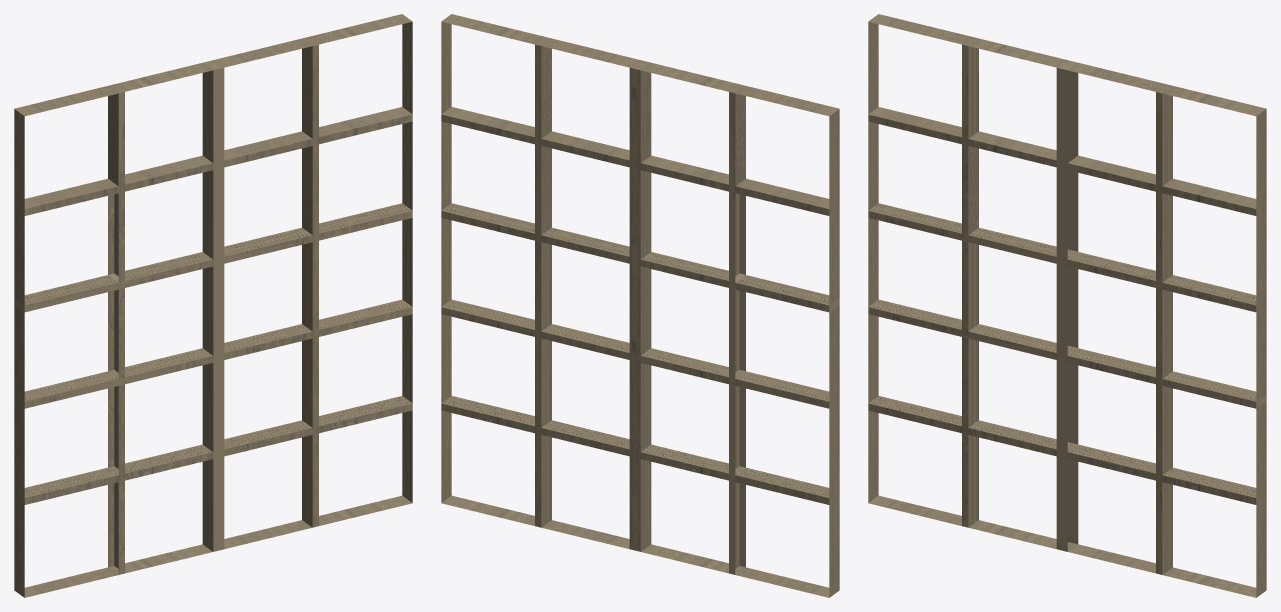
File: marcoVentana2.obj
The picture shows the model from 3 angles, left to right: view 1: azimuth 30°, elevation 25°; view 2: azimuth 150°, elevation 25°; view 3: azimuth 330°, elevation 25°; orthographic projection.
Visible parts, largest first — view 1: Vidrio1_004_Cube_005_Cube_005_lambert6SG_001; view 2: Vidrio1_004_Cube_005_Cube_005_lambert6SG_001; view 3: Vidrio1_004_Cube_005_Cube_005_lambert6SG_001.
Part boxes in pixels (x1,y1,x2,y2): Vidrio1_004_Cube_005_Cube_005_lambert6SG_001: (14,14,412,597); Vidrio1_004_Cube_005_Cube_005_lambert6SG_001: (441,14,839,597); Vidrio1_004_Cube_005_Cube_005_lambert6SG_001: (868,14,1266,597).
Bounding box in the file's own units: 9.76 × 11.57 × 0.4565.
1 material, 1 textured.
